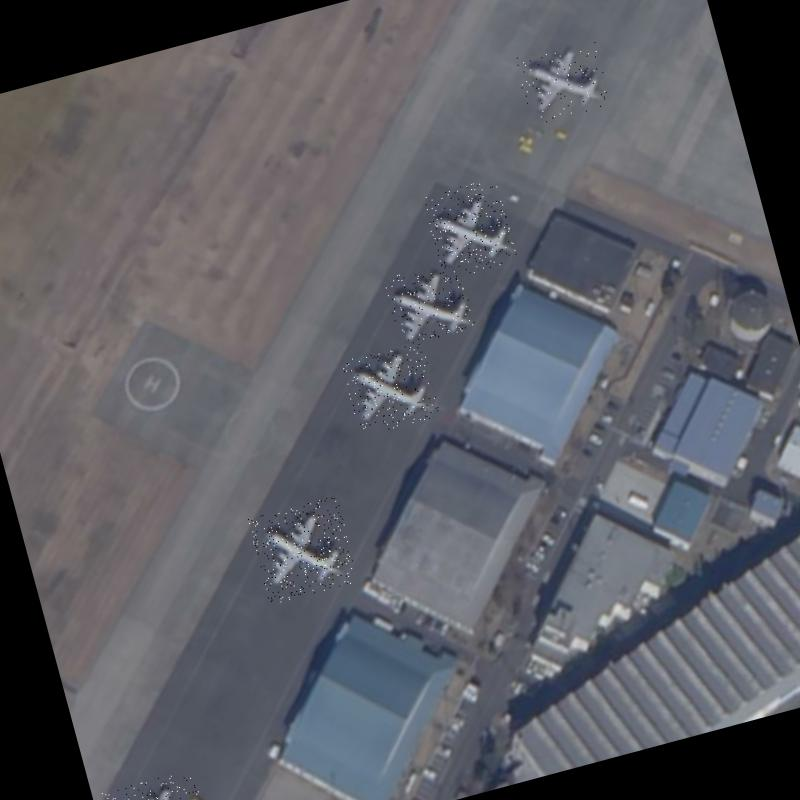A9: (246, 495, 360, 605), (421, 176, 518, 280), (340, 340, 441, 436), (514, 37, 612, 126), (382, 258, 477, 348), (99, 768, 215, 800)
